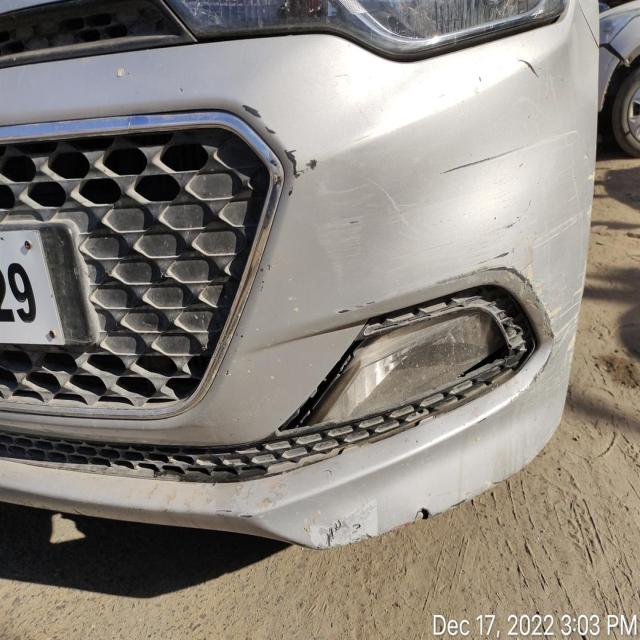damage: (350, 232, 564, 364), (437, 120, 555, 192), (240, 94, 324, 192), (517, 50, 544, 81)
